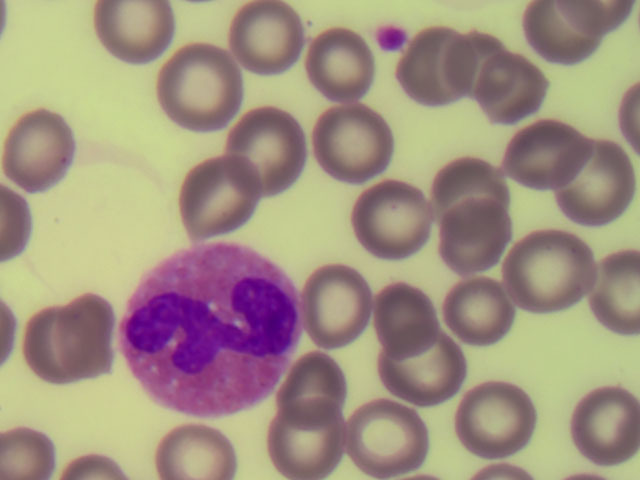Platelets: (373, 23, 411, 56)
RBC: (1, 110, 87, 196), (263, 400, 353, 480), (549, 144, 640, 223), (549, 385, 640, 464), (157, 48, 247, 127), (291, 24, 381, 103), (315, 96, 405, 175), (226, 103, 316, 182), (175, 154, 265, 233), (349, 181, 439, 260), (423, 149, 513, 228), (427, 202, 517, 281), (499, 117, 589, 196), (487, 60, 577, 139), (444, 26, 534, 105), (465, 137, 555, 216), (505, 226, 595, 305), (440, 269, 530, 348), (370, 282, 460, 361), (300, 267, 390, 346), (381, 323, 471, 402), (290, 340, 380, 419), (345, 397, 435, 476), (462, 375, 552, 454), (60, 289, 150, 368), (16, 311, 106, 390), (90, 1, 180, 79), (218, 1, 308, 79), (151, 410, 239, 480), (517, 1, 605, 69)
WBC: (125, 245, 305, 412)
